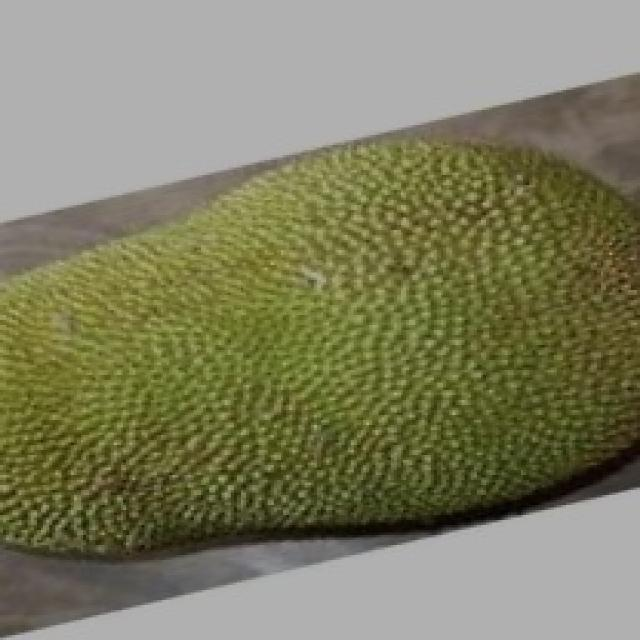Fruit: (0, 182, 403, 618), (212, 90, 640, 390)
